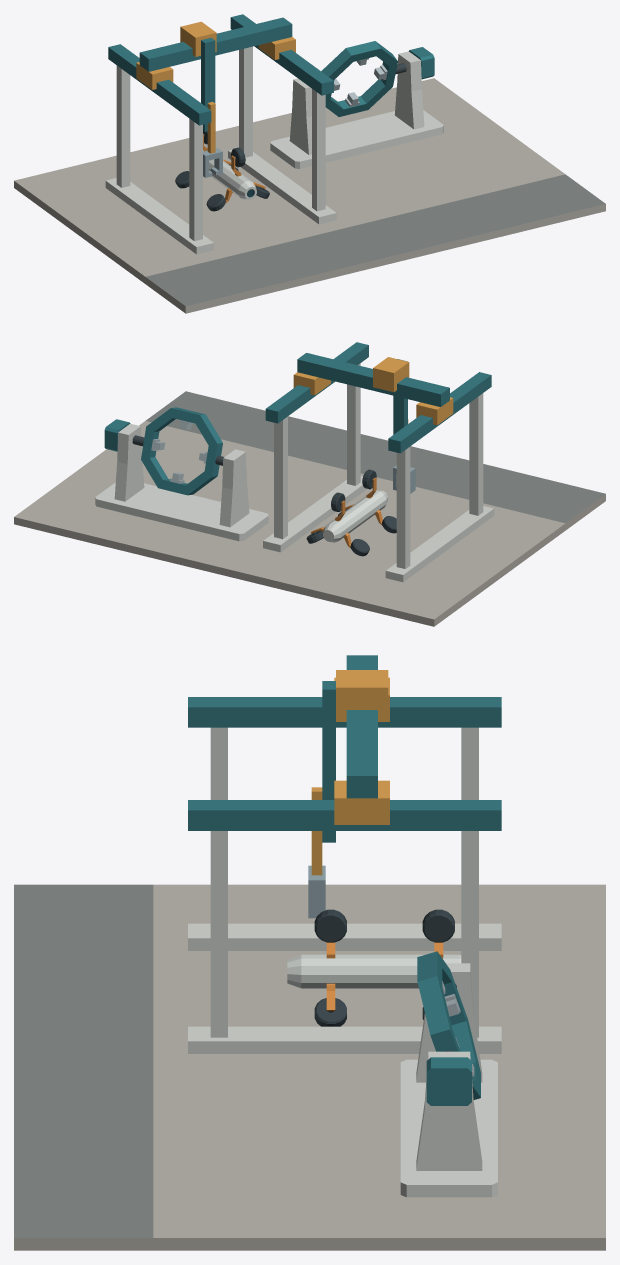
3 renders of one model, top to bottom at view 1: azimuth 30°, elevation 25°; view 2: azimuth 150°, elevation 25°; view 3: azimuth 270°, elevation 25°, orthographic. The views are drawn at different scales.
Visible parts, largest first — view 1: SCENE_ONLY__RobotInspectionBayGround, positioner__WholeGroundPlinth, gantry__WholeTransverseBridge, positioner__WholeInclinedThroughReceiver, gantry__LeftWholeGroundBeam, gantry__RightWholeGroundBeam, gantry__LeftWholeLongitudinalRail, positioner__RightWholeBearingColumn, gantry__LeftBackWholePost, gantry__LeftFrontWholePost, gantry__RightFrontWholePost, gantry__RightWholeLongitudinalRail (+8 smaller); view 2: SCENE_ONLY__RobotInspectionBayGround, positioner__WholeGroundPlinth, positioner__WholeInclinedThroughReceiver, gantry__WholeTransverseBridge, gantry__LeftWholeGroundBeam, gantry__LeftWholeLongitudinalRail, gantry__RightWholeGroundBeam, positioner__LeftWholeBearingColumn, positioner__RightWholeBearingColumn, gantry__LeftBackWholePost, gantry__LeftFrontWholePost, gantry__RightBackWholePost (+8 smaller); view 3: SCENE_ONLY__RobotInspectionBayGround, gantry__RightWholeLongitudinalRail, gantry__LeftWholeLongitudinalRail, positioner__WholeGroundPlinth, gantry__RightWholeGroundBeam, gantry__LeftWholeGroundBeam, pipe__WholeAxialBodyWithFrontRecess, positioner__RightWholeBearingColumn, positioner__WholeInclinedThroughReceiver, gantry__RightFrontWholePost, gantry__WholeTransverseBridge, gantry__RightBackWholePost (+9 smaller).
Part boxes in pixels (x1,y1,x2,y2): SCENE_ONLY__RobotInspectionBayGround: (14, 78, 605, 313); positioner__WholeGroundPlinth: (270, 110, 443, 168); gantry__WholeTransverseBridge: (139, 17, 292, 71); positioner__WholeInclinedThroughReceiver: (321, 41, 397, 116); gantry__LeftWholeGroundBeam: (105, 178, 213, 254); gantry__RightWholeGroundBeam: (228, 150, 336, 224); gantry__LeftWholeLongitudinalRail: (108, 44, 211, 125); positioner__RightWholeBearingColumn: (395, 51, 424, 129); gantry__LeftBackWholePost: (116, 65, 130, 187); gantry__LeftFrontWholePost: (189, 118, 202, 241); gantry__RightFrontWholePost: (312, 89, 325, 211); gantry__RightWholeLongitudinalRail: (230, 14, 333, 95); SCENE_ONLY__RobotInspectionBayGround: (14, 391, 605, 626); positioner__WholeGroundPlinth: (95, 482, 268, 541); positioner__WholeInclinedThroughReceiver: (141, 407, 222, 495); gantry__WholeTransverseBridge: (297, 353, 449, 406); gantry__LeftWholeGroundBeam: (385, 506, 494, 582); gantry__LeftWholeLongitudinalRail: (388, 372, 491, 453); gantry__RightWholeGroundBeam: (263, 476, 367, 552); positioner__LeftWholeBearingColumn: (219, 449, 249, 527); positioner__RightWholeBearingColumn: (114, 423, 144, 501); gantry__LeftBackWholePost: (396, 447, 410, 568); gantry__LeftFrontWholePost: (469, 393, 483, 515); gantry__RightBackWholePost: (274, 416, 287, 539); SCENE_ONLY__RobotInspectionBayGround: (14, 884, 605, 1250); gantry__RightWholeLongitudinalRail: (188, 800, 501, 830); gantry__LeftWholeLongitudinalRail: (188, 697, 501, 727); positioner__WholeGroundPlinth: (400, 1059, 497, 1197); gantry__RightWholeGroundBeam: (188, 1026, 501, 1053); gantry__LeftWholeGroundBeam: (188, 923, 501, 950); pipe__WholeAxialBodyWithFrontRecess: (287, 954, 461, 988); positioner__RightWholeBearingColumn: (416, 1051, 482, 1170); positioner__WholeInclinedThroughReceiver: (417, 951, 480, 1099); gantry__RightFrontWholePost: (210, 831, 227, 1037); gantry__WholeTransverseBridge: (346, 655, 377, 798); gantry__RightBackWholePost: (461, 831, 478, 1037).
Bounding box in the file's own units: 4.8 × 1.99 × 3.4.
